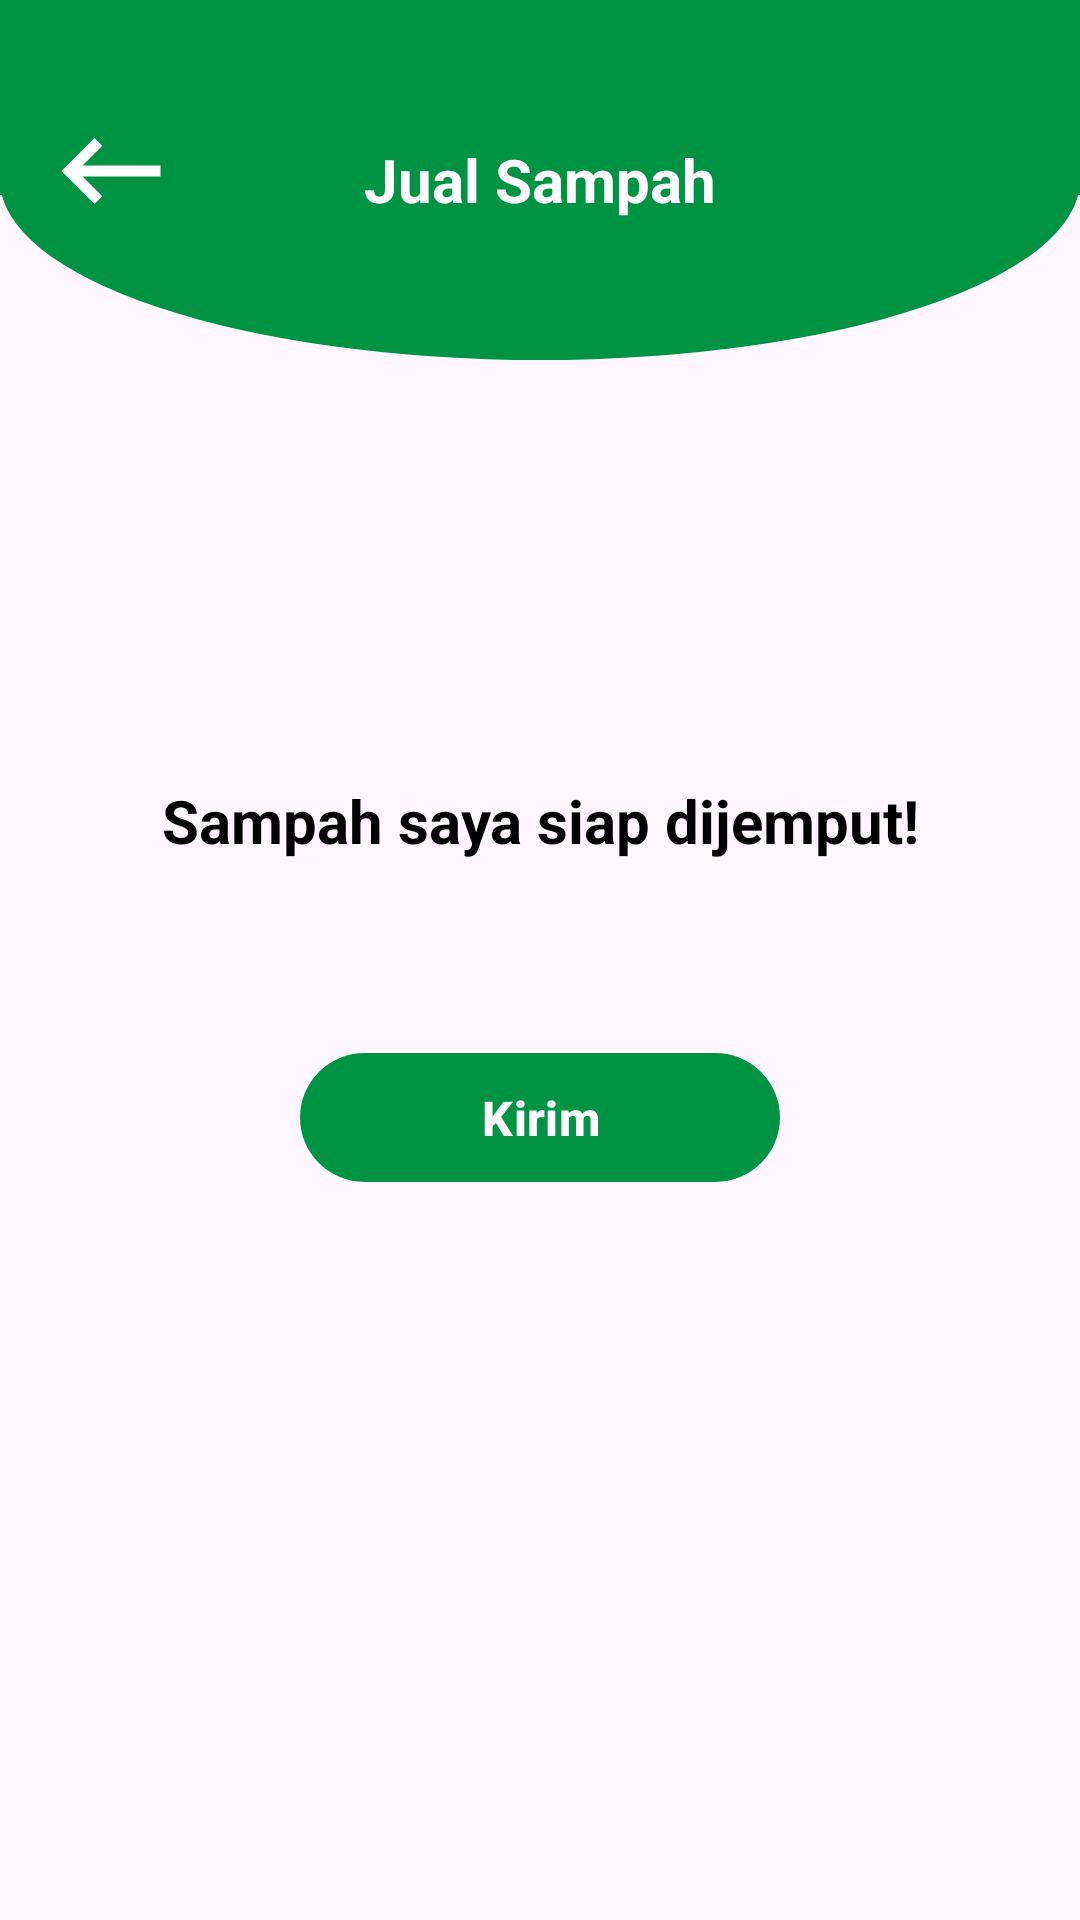

Named icons in this screenshot (1080 x 1920) and their centers, (x,y):
keyboard backspace: (111,171)
